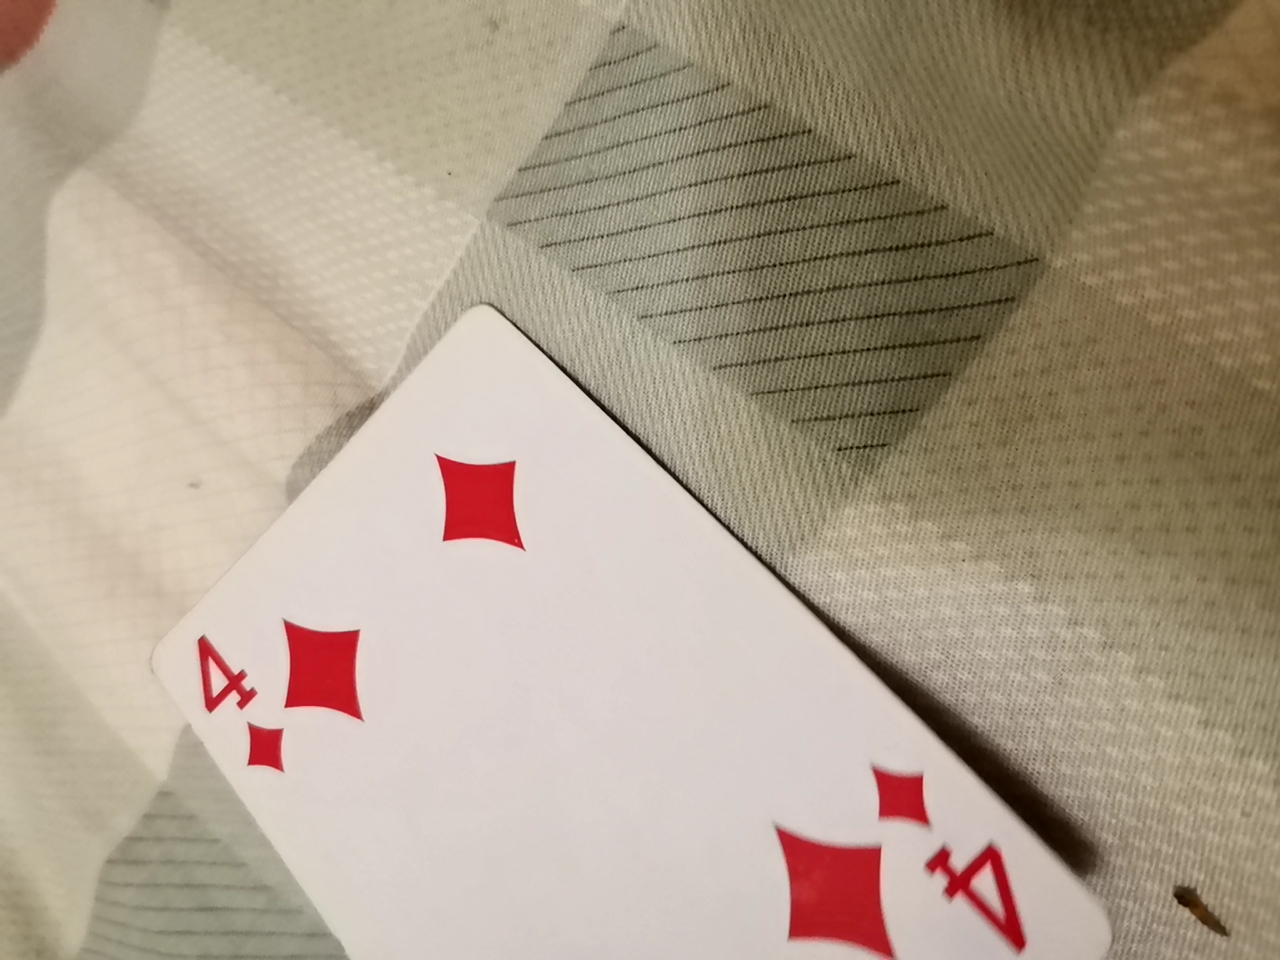fk 4: (148, 287, 1093, 958)
